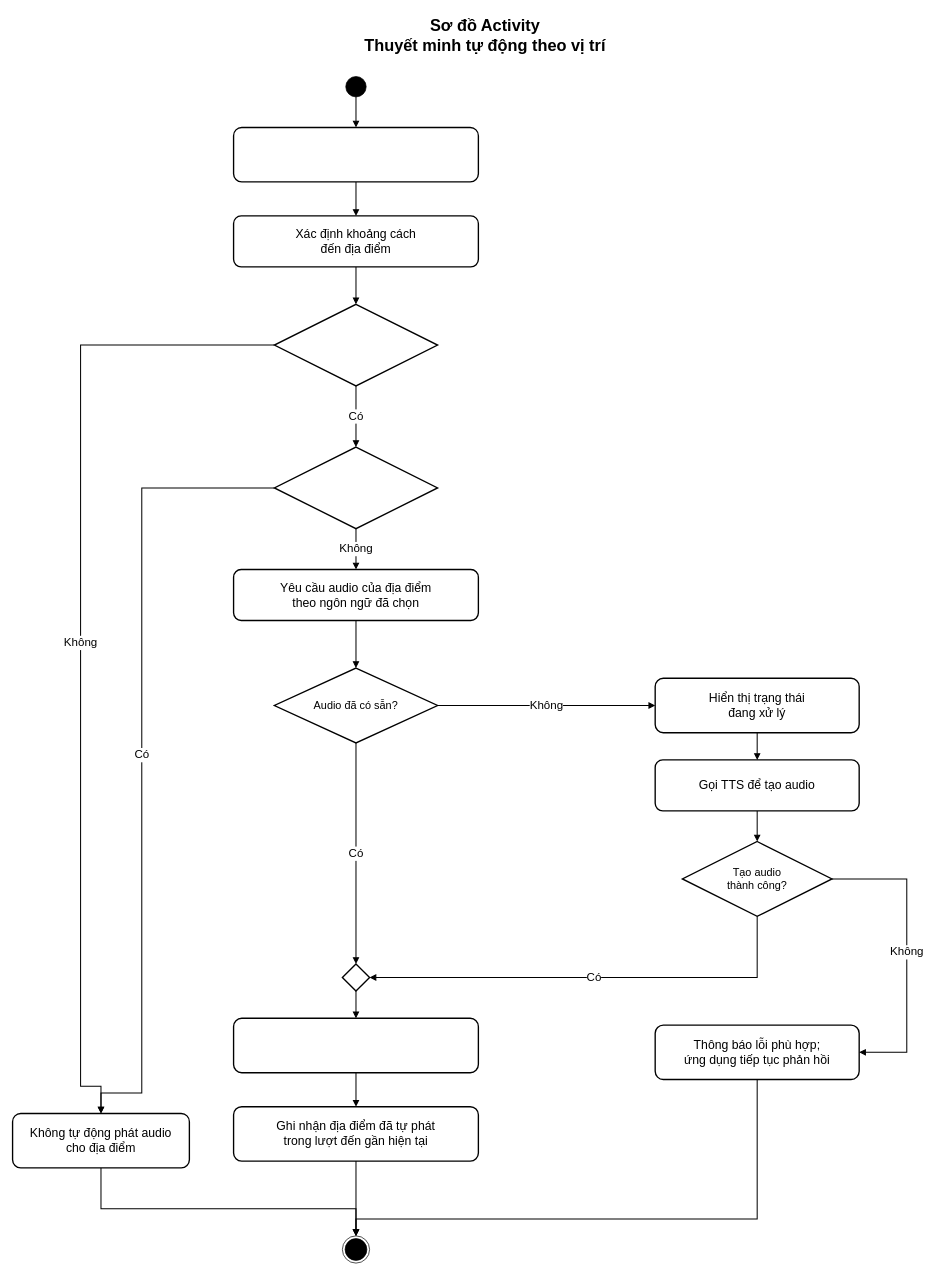
Image size: 935x1275. Some labels were removed from this diagram. The centre of each missing label's shape, as x and y in pixels:
"Cung cấp và phát audio không yêu cầu bấm thêm" goes at [356,1045].
"Khoảng cách ≤ bán kính kích hoạt?" goes at [355,344].
"Đã tự phát trong lượt đến gần này?" goes at [355,487].
"Ứng dụng nhận cập nhật vị trí khi đã được cấp quyền" goes at [356,154].
